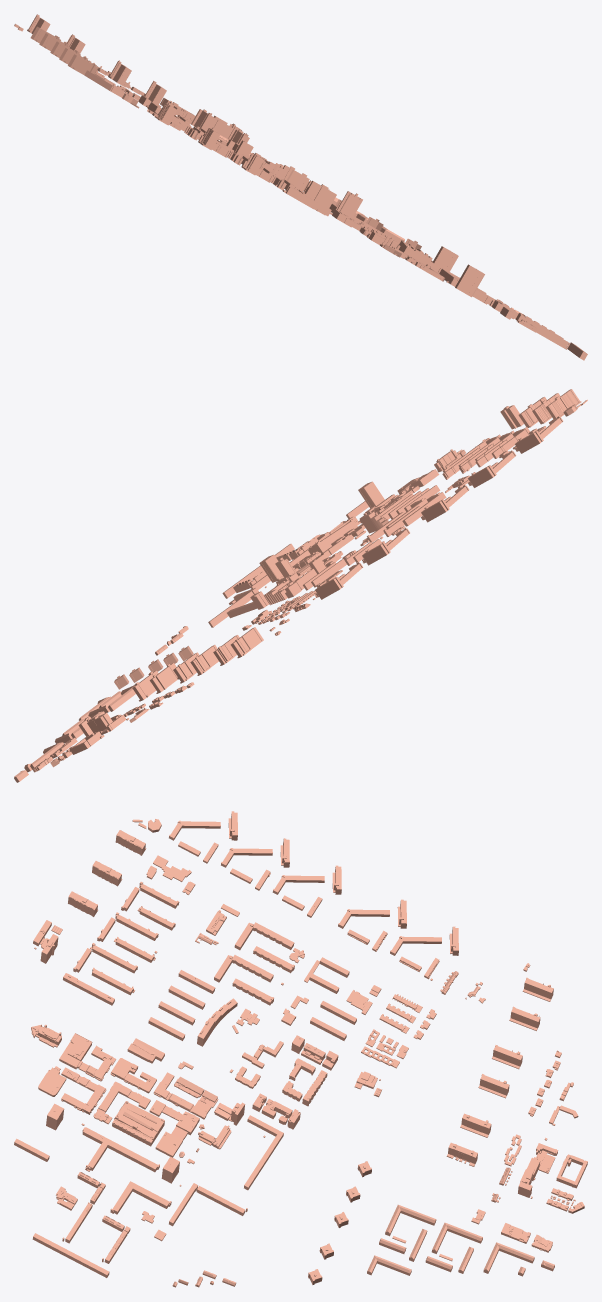
3 views of the same model, one above another, from view 1: azimuth 30°, elevation 25°; view 2: azimuth 150°, elevation 25°; view 3: azimuth 270°, elevation 25° (orthographic). The views are drawn at different scales.
Size of the model in its own units: 3.14e+07 by 2.43e+07 by 4.21e+07.
